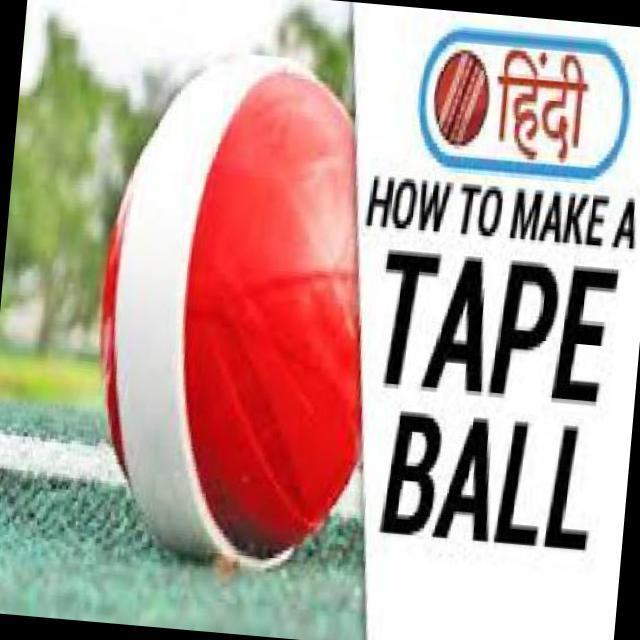-: (94, 59, 409, 532), (433, 47, 503, 166)
